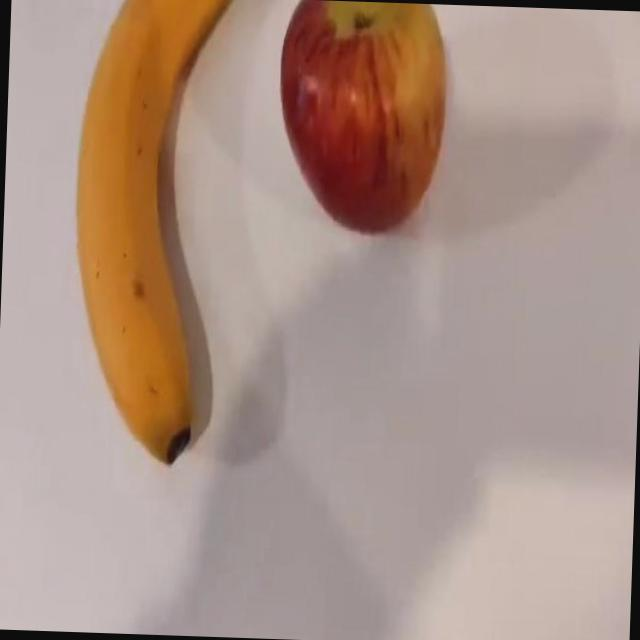Apple: (273, 0, 449, 239)
Banana: (66, 0, 234, 468)
